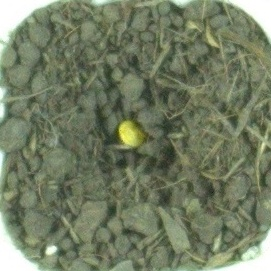chilli seed: (117, 118, 148, 148)
